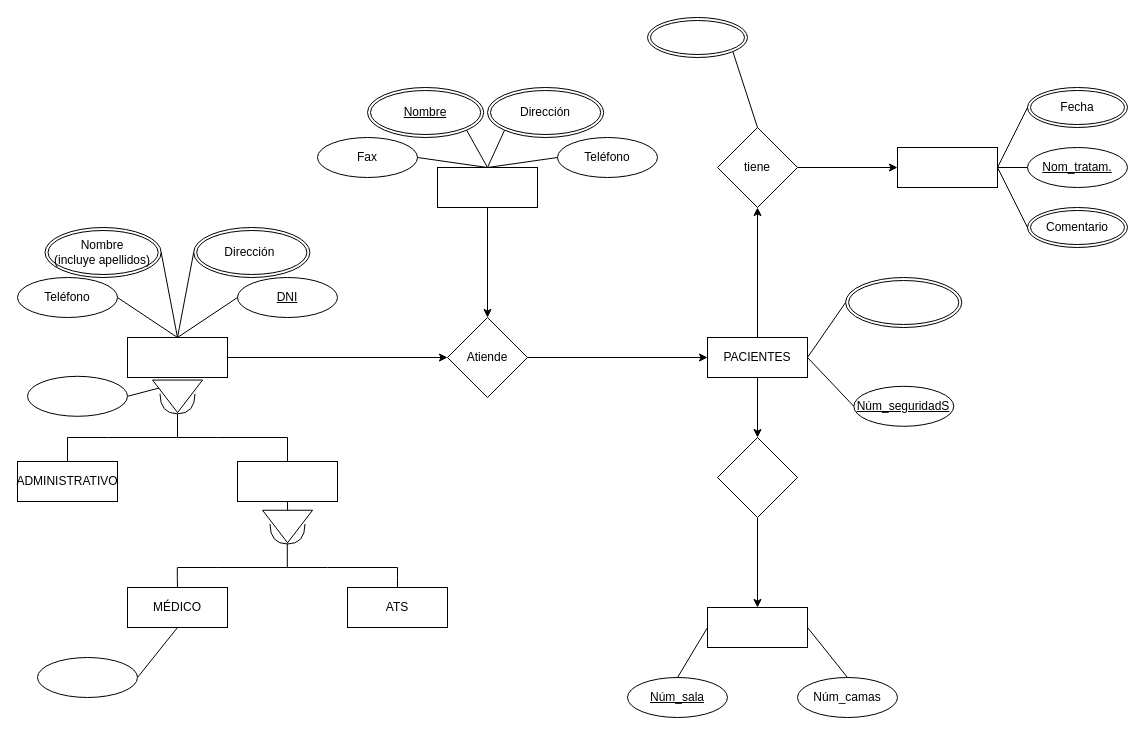
This 1145x735 diagram has some shape labels left out. Each missing label, with the centre of its shape:
"Compañia_segur" goes at point 903,302.
"Especialidad" goes at point 87,677.
"fecha_admisión" goes at point 697,37.
"FICHA_TRATAM." goes at point 947,167.
"HOSPITAL" goes at point 487,187.
"permanece" goes at point 757,477.
"PERSONAL" goes at point 177,357.
"Sala" goes at point 757,627.
"SANITARIO" goes at point 287,481.
"Tipo" goes at point 77,395.
